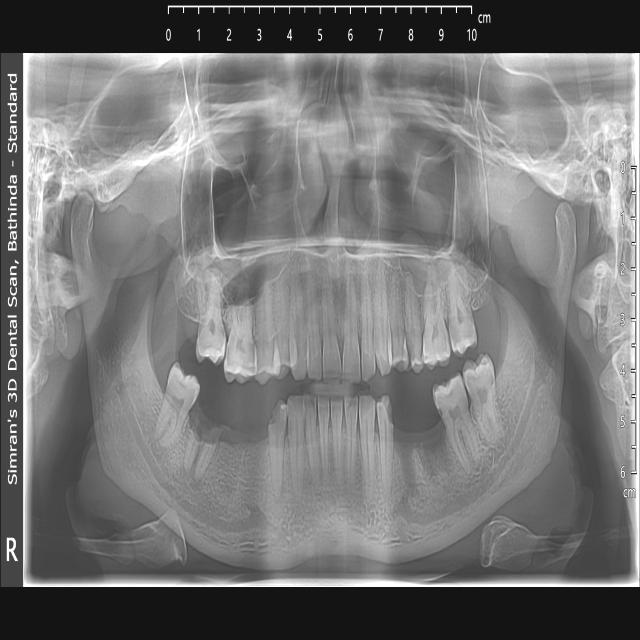Caries: (432, 372, 470, 422), (378, 394, 393, 423), (269, 400, 282, 424)
Missing teeth: (210, 399, 272, 497), (395, 390, 452, 487)
Root Piece: (183, 416, 221, 482)
